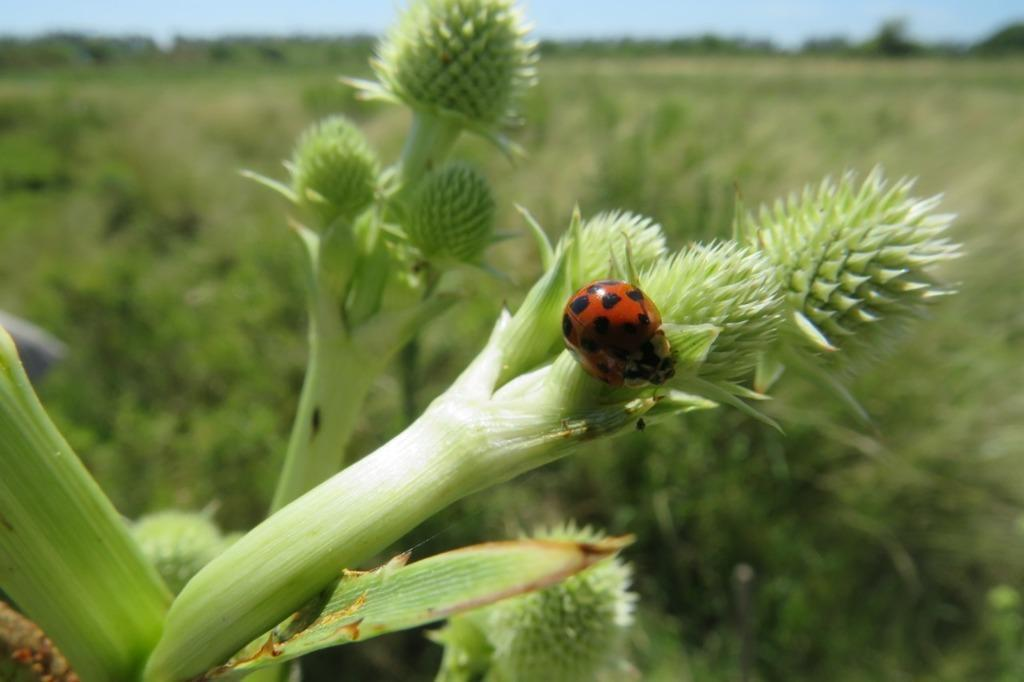ladybug: (559, 279, 685, 393)
